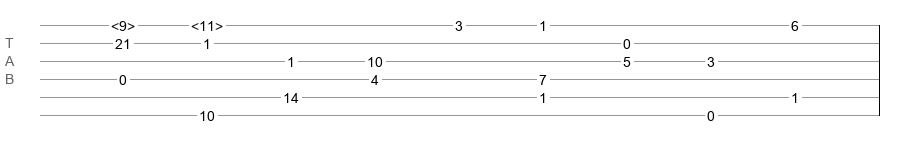0: (119, 72, 127, 82), (623, 36, 631, 46), (707, 108, 715, 118)
1: (203, 36, 211, 46), (287, 54, 295, 64), (539, 90, 547, 100), (539, 18, 547, 28), (791, 90, 799, 100)
10: (199, 108, 215, 118), (367, 54, 383, 64)
14: (283, 90, 299, 100)
21: (115, 36, 131, 46)
3: (455, 18, 463, 28), (707, 54, 715, 64)
4: (371, 72, 379, 82)
5: (623, 54, 631, 64)
6: (791, 18, 799, 28)
7: (539, 72, 547, 82)
harmonic: (191, 18, 223, 28), (111, 18, 135, 28)
